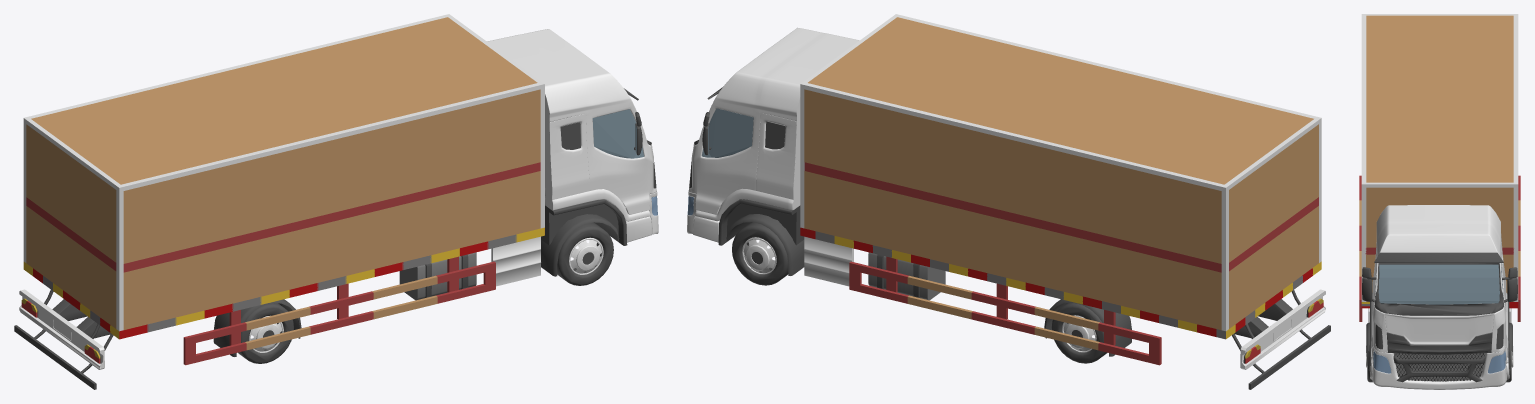
Rendered from BIGTRUCK.glb.
3 views of the same model, side by side, from view 1: azimuth 30°, elevation 25°; view 2: azimuth 150°, elevation 25°; view 3: azimuth 270°, elevation 25° (orthographic). The views are drawn at different scales.
Visible parts, largest first — view 1: 主体车身, body; view 2: 主体车身, body; view 3: 主体车身, body.
Boxes of the visible parts, x1,y1,x2,y2 form: 主体车身: (14,14,657,389); body: (487,29,658,242); 主体车身: (687,14,1330,389); body: (687,27,859,242); 主体车身: (1359,14,1520,382); body: (1370,205,1509,389).
Bounding box in the file's own units: 9.91 × 3.61 × 2.97.
Materials: 13 (2 with a texture image).
